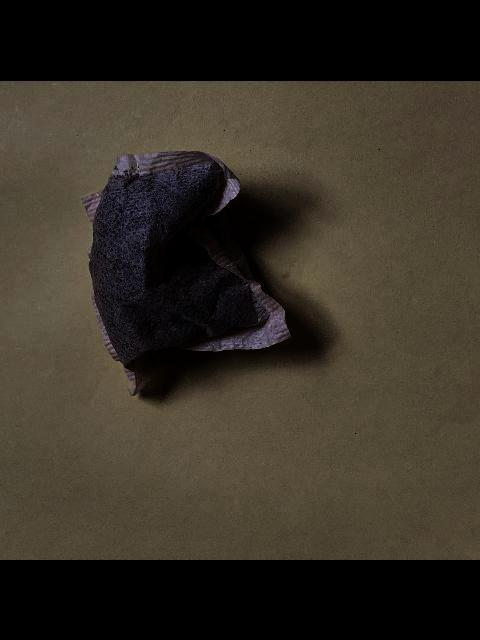teabag: (80, 150, 294, 396)
